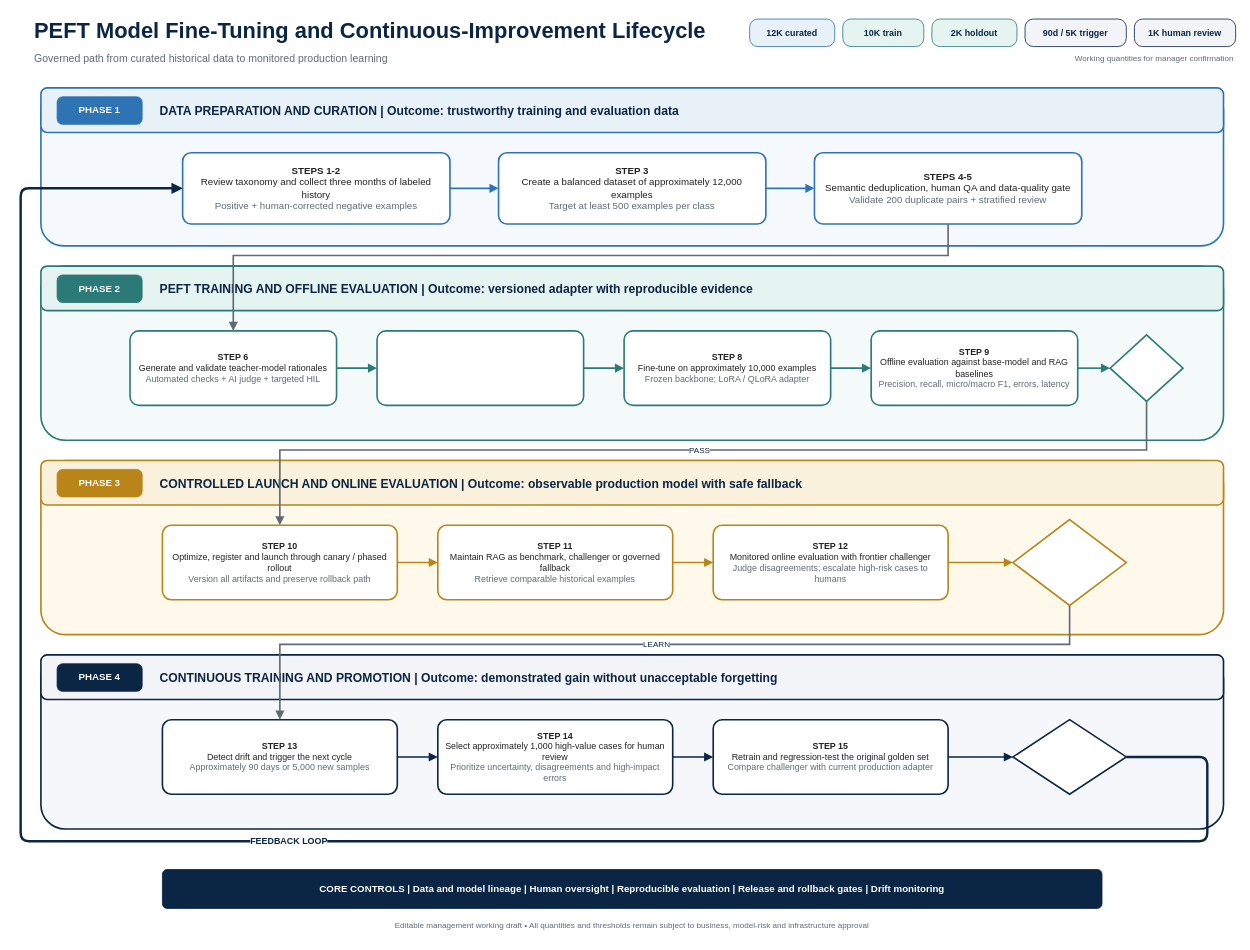
This 1250x950 diagram has some shape labels left out. Here are the shapes that lost their labels. From the top down, the box of each, then its label:
(376, 330, 584, 406): STEP 7 Lock the 2,000-example golden evaluation set No training leakage
(1109, 334, 1183, 402): RELEASE GATE
(1012, 518, 1127, 606): PROMOTE HOLD ROLL BACK
(1012, 718, 1127, 795): PROMOTE NEW ADAPTER?
